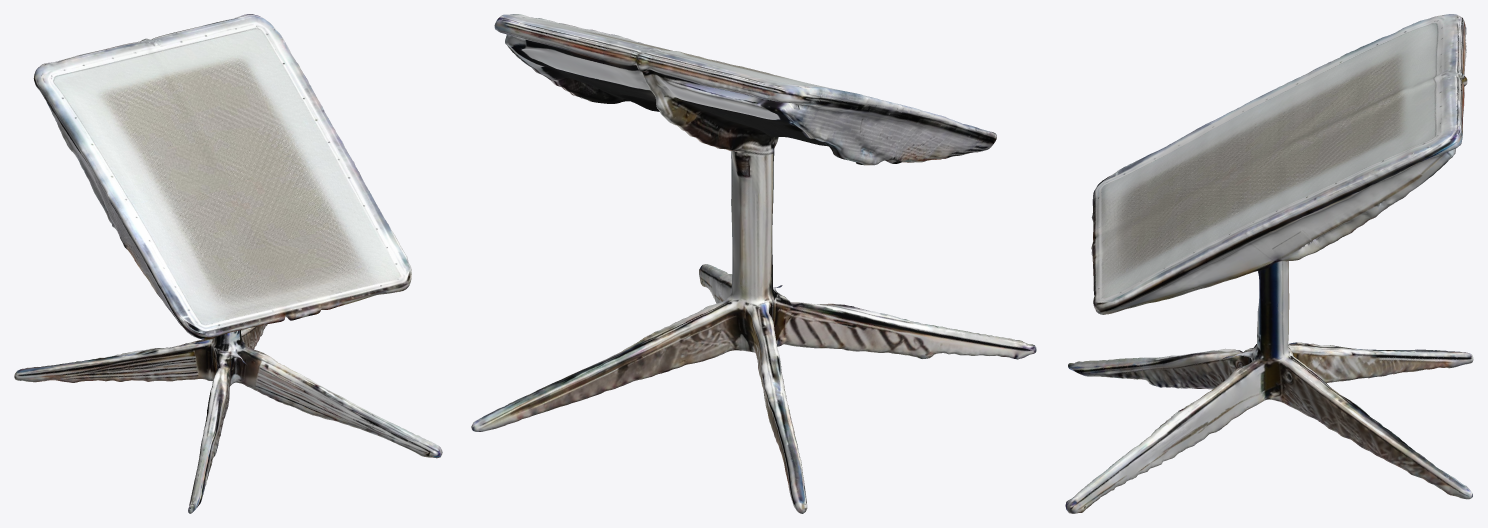
The model's file is starlink_dish.glb.
3 renders of one model, left to right at view 1: azimuth 30°, elevation 25°; view 2: azimuth 150°, elevation 25°; view 3: azimuth 270°, elevation 25°, orthographic. The views are drawn at different scales.
Parts seen in each view (by area): view 1: tripo_node_4cc0e7d1-7871-45f3-99ea-4606121d18fe_0; view 2: tripo_node_4cc0e7d1-7871-45f3-99ea-4606121d18fe_0; view 3: tripo_node_4cc0e7d1-7871-45f3-99ea-4606121d18fe_0.
Part boxes in pixels (x1,y1,x2,y2): tripo_node_4cc0e7d1-7871-45f3-99ea-4606121d18fe_0: [14, 14, 442, 513]; tripo_node_4cc0e7d1-7871-45f3-99ea-4606121d18fe_0: [471, 14, 1036, 513]; tripo_node_4cc0e7d1-7871-45f3-99ea-4606121d18fe_0: [1065, 14, 1473, 513].
Size of the model in its own units: 0.5216 by 0.6407 by 0.6343.
Materials: 1 (1 with a texture image).
